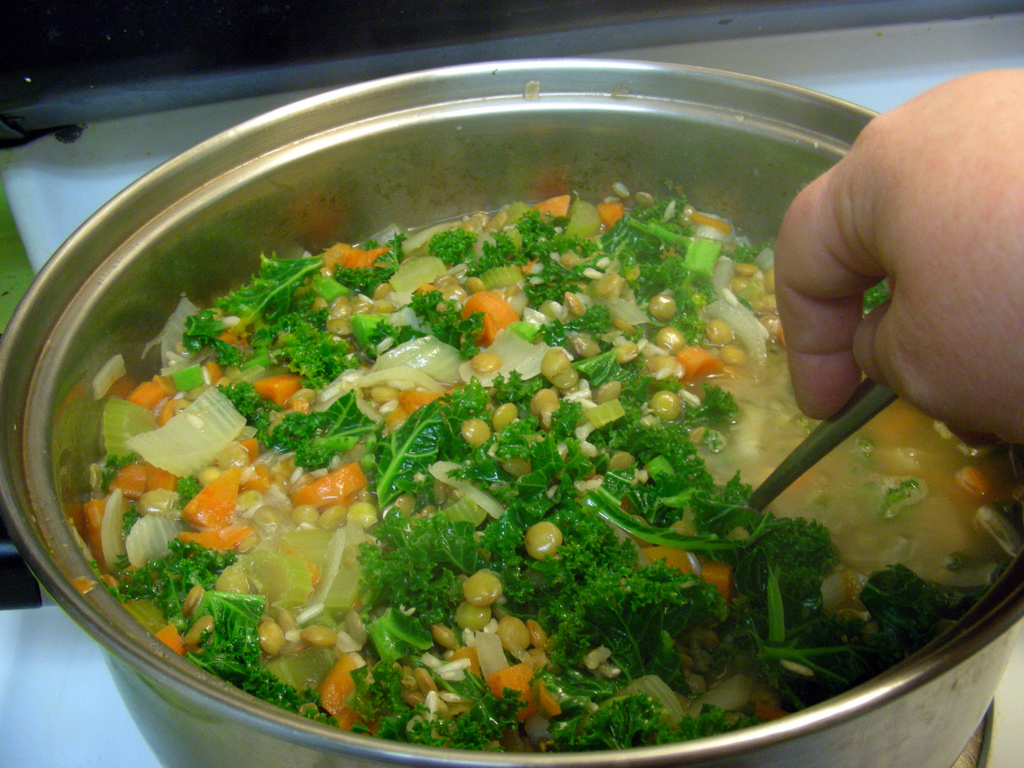chopped lettuce: (142, 402, 245, 468)
